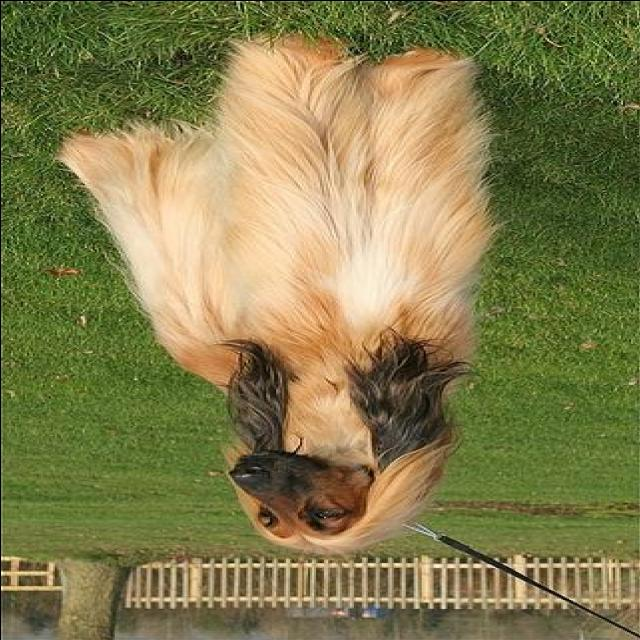afghan_hound: (51, 31, 516, 554)
